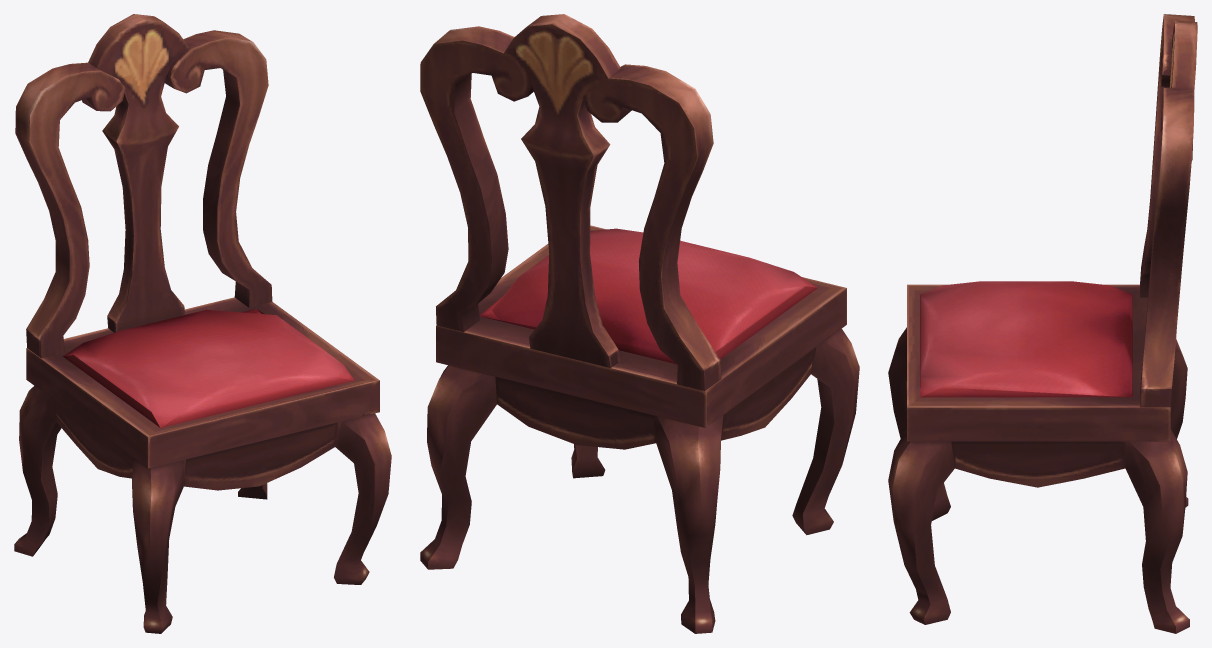
Rendered from s4studio_mesh_1_001.fbx.
The picture shows the model from 3 angles, left to right: view 1: azimuth 30°, elevation 25°; view 2: azimuth 150°, elevation 25°; view 3: azimuth 270°, elevation 25°; orthographic projection. The views are drawn at different scales.
Parts seen in each view (by area): view 1: s4studio_mesh_1.001; view 2: s4studio_mesh_1.001; view 3: s4studio_mesh_1.001.
Part boxes in pixels (x1,y1,x2,y2): s4studio_mesh_1.001: (14, 14, 391, 633); s4studio_mesh_1.001: (420, 14, 859, 633); s4studio_mesh_1.001: (888, 14, 1197, 633).
Bounding box in the file's own units: 0.5802 × 1.09 × 0.5624.
Materials: 1 (1 with a texture image).
